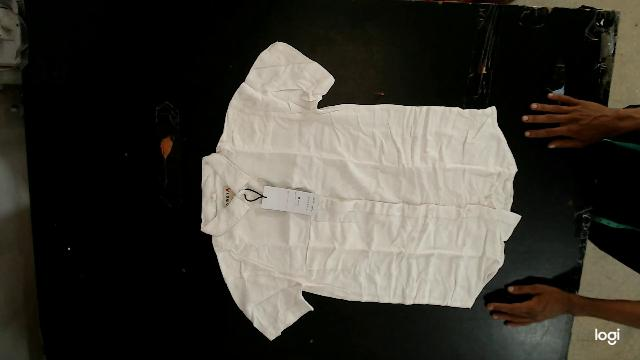new-garment: (201, 42, 521, 339)
